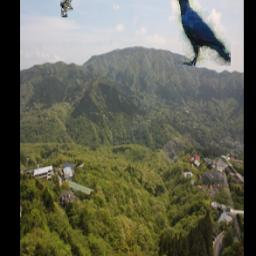Crow: (171, 0, 231, 66)
Woodpecker: (60, 0, 74, 18)
